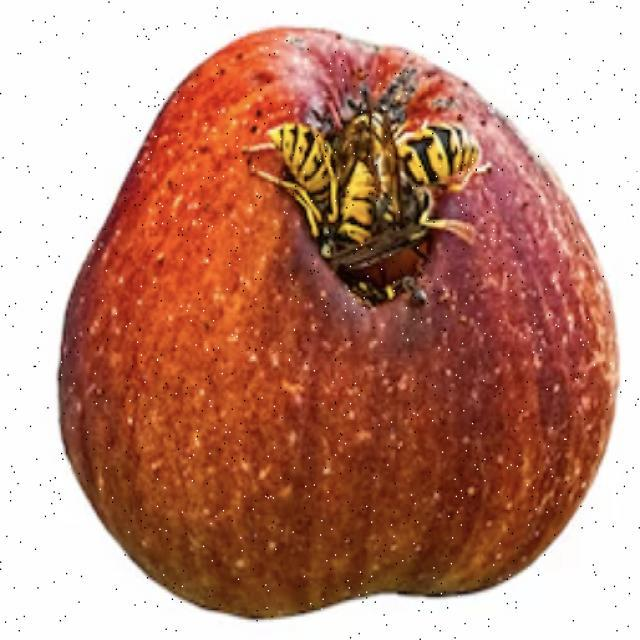Rotten: (47, 23, 610, 592)
